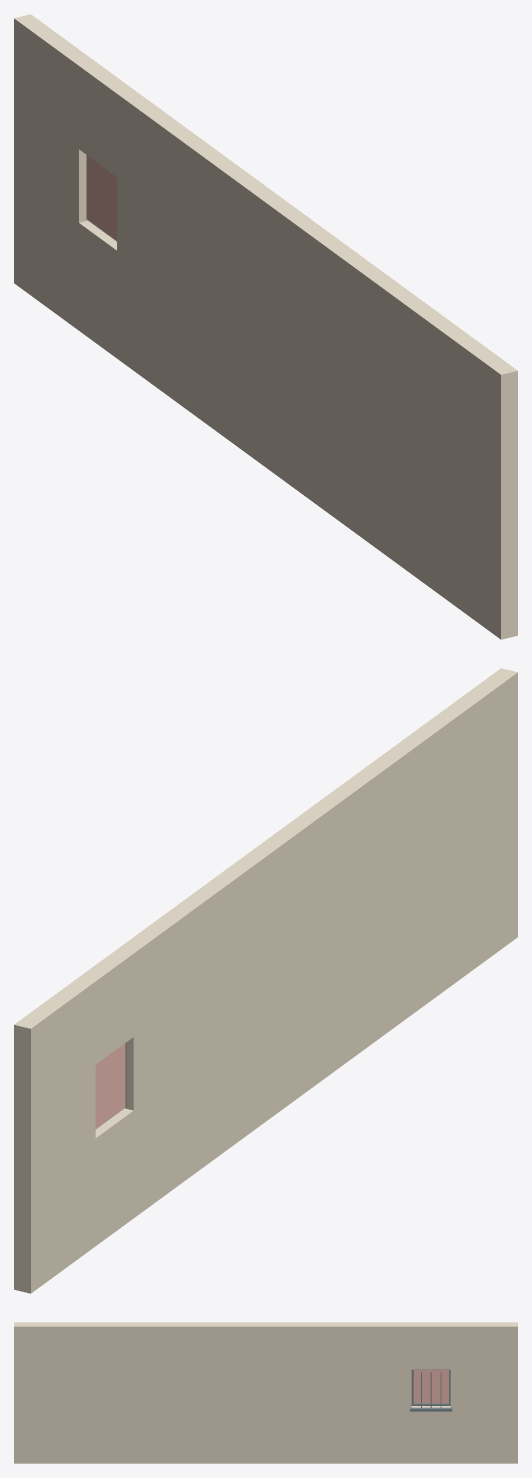
Rendered from tb_danchi_module_end_r_01.fbx.
The picture shows the model from 3 angles, top to bottom: view 1: azimuth 30°, elevation 25°; view 2: azimuth 150°, elevation 25°; view 3: azimuth 270°, elevation 25°; orthographic projection. The views are drawn at different scales.
Parts seen in each view (by area): view 1: tb_danchi_module_end_r_01; view 2: tb_danchi_module_end_r_01; view 3: tb_danchi_module_end_r_01.
Boxes of the visible parts, left/top/right/bottom form: tb_danchi_module_end_r_01: left=14, top=14, right=517, bottom=639; tb_danchi_module_end_r_01: left=14, top=668, right=517, bottom=1293; tb_danchi_module_end_r_01: left=14, top=1322, right=517, bottom=1463.
Size of what is drawn, in the model's own units: 0.24 by 2.7 by 9.
Materials: 2 (2 with a texture image).
